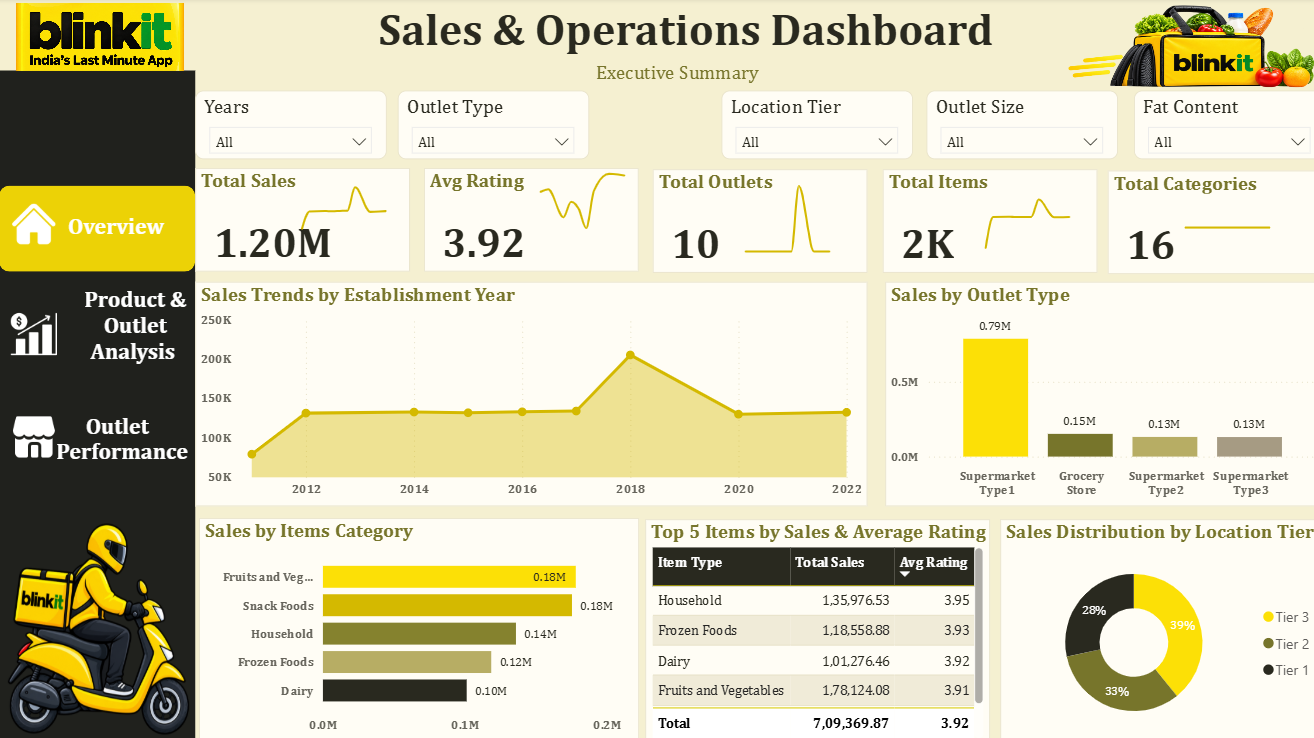

This screenshot's page, from the dashboard's own definition file:
{"tool":"powerbi","page":{"name":"Overview","canvas":[1280,720],"ordinal":0},"visuals":[{"type":"shape","box":[0,176.1,189.4,83.2],"z":0},{"type":"shape","box":[0,273.9,189.4,83.2],"z":1000},{"type":"shape","box":[0,0,1280,143.6],"z":2000},{"type":"shape","box":[0,70,189.4,650.3],"z":3000},{"type":"slicer","title":"Location Tier","fields":{"Values":["BlinkIT_Grocery_Data.Outlet Location Type"]},"box":[697.3,89.3,184.6,66],"z":4000},{"type":"slicer","title":"Years","fields":{"Values":["BlinkIT_Grocery_Data.Outlet Establishment Year"]},"box":[189.4,89.3,184.6,66],"z":5000},{"type":"slicer","title":"Outlet Type","fields":{"Values":["BlinkIT_Grocery_Data.Outlet Type"]},"box":[384.9,89.3,184.6,66],"z":6000},{"type":"slicer","title":"Outlet Size","fields":{"Values":["BlinkIT_Grocery_Data.Outlet Size"]},"box":[895.2,89.3,184.6,66],"z":7000},{"type":"slicer","title":"Fat Content","fields":{"Values":["BlinkIT_Grocery_Data.Item Fat Content"]},"box":[1095.4,89.3,184.6,66],"z":8000},{"type":"textbox","box":[246.1,0,833.7,78.4],"z":9000},{"type":"textbox","box":[555,55.5,199.1,35],"z":10000},{"type":"image","box":[0,501.9,189.4,218.4],"z":11000},{"type":"image","box":[1021.9,0,258.2,94.1],"z":12000},{"type":"image","box":[0,0,195,75],"z":13000},{"type":"cardVisual","title":"Total Sales","fields":{"Data":["Measure.TOTAL SALES"]},"box":[189.4,164.1,207.5,100.1],"z":14000},{"type":"cardVisual","title":"Avg Rating","fields":{"Data":["Measure.AVG RATING"]},"box":[410.2,164.1,207.5,100.1],"z":15000},{"type":"cardVisual","title":"Total Outlets","fields":{"Data":["Measure.TOTAL OUTLETS"]},"box":[631,165.8,207.5,100.1],"z":16000},{"type":"cardVisual","title":"Total Items","fields":{"Data":["Measure.TOTAL ITEMS"]},"box":[853,165.8,207.5,100.1],"z":17000},{"type":"cardVisual","title":"Total Categories","fields":{"Data":["Measure.TOTAL CATEGORY"]},"box":[1070.1,167,208,100.1],"z":18000},{"type":"areaChart","title":"Sales Trends by Establishment Year","fields":{"Category":["BlinkIT_Grocery_Data.Outlet Establishment Year"],"Y":["Measure.TOTAL SALES"]},"box":[189.4,273.9,649.1,217.2],"z":19000},{"type":"clusteredColumnChart","title":"Sales by Outlet Type","fields":{"Y":["Measure.TOTAL SALES"],"Category":["BlinkIT_Grocery_Data.Outlet Type"]},"box":[855.4,273.9,424.7,217.2],"z":20000},{"type":"barChart","title":"Sales by Items Category","fields":{"Y":["Measure.TOTAL SALES"],"Category":["BlinkIT_Grocery_Data.Item Type"]},"box":[193,501.9,424.7,217.2],"z":21000},{"type":"tableEx","title":"Top 5 Items by Sales & Average Rating","fields":{"Values":["BlinkIT_Grocery_Data.Item Type","Measure.TOTAL SALES","Measure.AVG RATING"]},"box":[623.7,503.1,333,217.2],"z":22000},{"type":"donutChart","title":"Sales Distribution by Location Tier","fields":{"Y":["Measure.TOTAL SALES"],"Category":["BlinkIT_Grocery_Data.Outlet Location Type"]},"box":[966.4,503.1,313.7,217.2],"z":23000},{"type":"image","box":[6,296.8,55,55],"z":24000},{"type":"textbox","box":[73.6,273.9,115.8,92.9],"z":25000},{"type":"image","box":[6,395.7,55,55],"z":26000},{"type":"textbox","box":[41,395.7,155.6,62.7],"z":27000},{"type":"lineChart","fields":{"Category":["BlinkIT_Grocery_Data.Outlet Establishment Year"],"Y":["Measure.TOTAL SALES"]},"box":[270.2,154.4,139.9,83.2],"z":28000},{"type":"lineChart","fields":{"Category":["BlinkIT_Grocery_Data.Outlet Establishment Year"],"Y":["Measure.TOTAL OUTLETS"]},"box":[698.5,167.7,139.9,83.2],"z":29000},{"type":"lineChart","fields":{"Category":["BlinkIT_Grocery_Data.Outlet Establishment Year"],"Y":["Measure.TOTAL ITEMS"]},"box":[930.2,176.1,139.9,83.2],"z":30000},{"type":"lineChart","fields":{"Category":["BlinkIT_Grocery_Data.Outlet Establishment Year"],"Y":["Measure.TOTAL CATEGORY"]},"box":[1123.2,176.1,139.9,83.2],"z":31000},{"type":"shape","box":[0,181,189.4,83.2],"z":32000},{"type":"lineChart","fields":{"Category":["BlinkIT_Grocery_Data.Outlet Establishment Year"],"Y":["Measure.AVG RATING"]},"box":[500.7,148.4,139.9,83.2],"z":33000},{"type":"textbox","box":[61.5,202.7,115.8,43.4],"z":34000},{"type":"image","box":[6,190.6,55,55],"z":35000},{"type":"actionButton","box":[0,182.2,189.4,83.2],"z":36000},{"type":"actionButton","box":[0,273.9,189.4,91.7],"z":37000},{"type":"actionButton","box":[0,386.1,189.4,83.2],"z":38000}]}

Visuals, with their boxes in screenshot pixels (x1, y1, x2, y2), scaled from the page's 1280x720 canvas onto the 1314x738 screenshot:
shape: [x1=0, y1=181, x2=194, y2=266]
shape: [x1=0, y1=281, x2=194, y2=366]
shape: [x1=0, y1=0, x2=1313, y2=147]
shape: [x1=0, y1=72, x2=194, y2=737]
"Location Tier" slicer: [x1=716, y1=92, x2=905, y2=159]
"Years" slicer: [x1=194, y1=92, x2=384, y2=159]
"Outlet Type" slicer: [x1=395, y1=92, x2=585, y2=159]
"Outlet Size" slicer: [x1=919, y1=92, x2=1108, y2=159]
"Fat Content" slicer: [x1=1124, y1=92, x2=1313, y2=159]
textbox: [x1=253, y1=0, x2=1108, y2=80]
textbox: [x1=570, y1=57, x2=774, y2=93]
image: [x1=0, y1=514, x2=194, y2=737]
image: [x1=1049, y1=0, x2=1313, y2=96]
image: [x1=0, y1=0, x2=200, y2=77]
"Total Sales" cardVisual: [x1=194, y1=168, x2=407, y2=271]
"Avg Rating" cardVisual: [x1=421, y1=168, x2=634, y2=271]
"Total Outlets" cardVisual: [x1=648, y1=170, x2=861, y2=273]
"Total Items" cardVisual: [x1=876, y1=170, x2=1089, y2=273]
"Total Categories" cardVisual: [x1=1099, y1=171, x2=1312, y2=274]
"Sales Trends by Establishment Year" areaChart: [x1=194, y1=281, x2=861, y2=503]
"Sales by Outlet Type" clusteredColumnChart: [x1=878, y1=281, x2=1313, y2=503]
"Sales by Items Category" barChart: [x1=198, y1=514, x2=634, y2=737]
"Top 5 Items by Sales & Average Rating" tableEx: [x1=640, y1=516, x2=982, y2=737]
"Sales Distribution by Location Tier" donutChart: [x1=992, y1=516, x2=1313, y2=737]
image: [x1=6, y1=304, x2=63, y2=361]
textbox: [x1=76, y1=281, x2=194, y2=376]
image: [x1=6, y1=406, x2=63, y2=462]
textbox: [x1=42, y1=406, x2=202, y2=470]
lineChart - BlinkIT_Grocery_Data.Outlet Establishment Year x Measure.TOTAL SALES: [x1=277, y1=158, x2=421, y2=244]
lineChart - BlinkIT_Grocery_Data.Outlet Establishment Year x Measure.TOTAL OUTLETS: [x1=717, y1=172, x2=861, y2=257]
lineChart - BlinkIT_Grocery_Data.Outlet Establishment Year x Measure.TOTAL ITEMS: [x1=955, y1=181, x2=1099, y2=266]
lineChart - BlinkIT_Grocery_Data.Outlet Establishment Year x Measure.TOTAL CATEGORY: [x1=1153, y1=181, x2=1297, y2=266]
shape: [x1=0, y1=186, x2=194, y2=271]
lineChart - BlinkIT_Grocery_Data.Outlet Establishment Year x Measure.AVG RATING: [x1=514, y1=152, x2=658, y2=237]
textbox: [x1=63, y1=208, x2=182, y2=252]
image: [x1=6, y1=195, x2=63, y2=252]
actionButton: [x1=0, y1=187, x2=194, y2=272]
actionButton: [x1=0, y1=281, x2=194, y2=375]
actionButton: [x1=0, y1=396, x2=194, y2=481]
